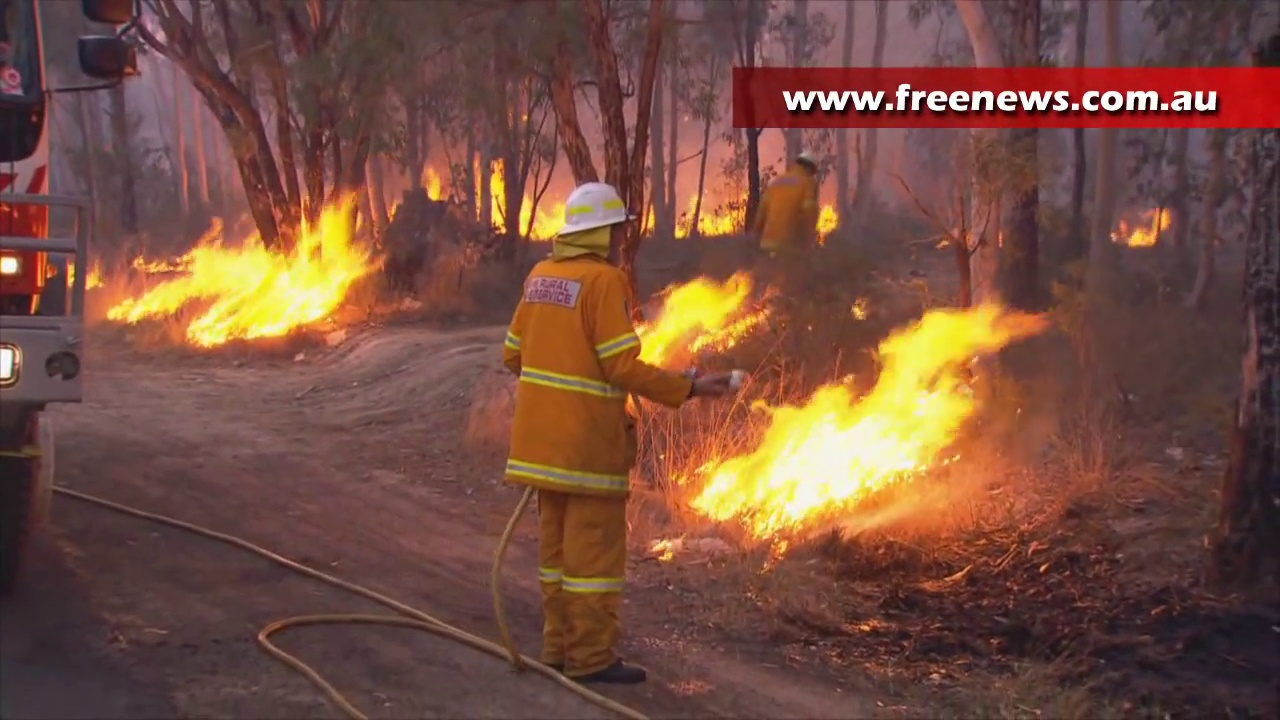fire: (701, 308, 1011, 535), (115, 191, 381, 345), (635, 278, 746, 342), (522, 197, 563, 240), (695, 213, 736, 237), (492, 169, 502, 227), (428, 168, 443, 203), (1129, 223, 1149, 247), (821, 201, 836, 232)
